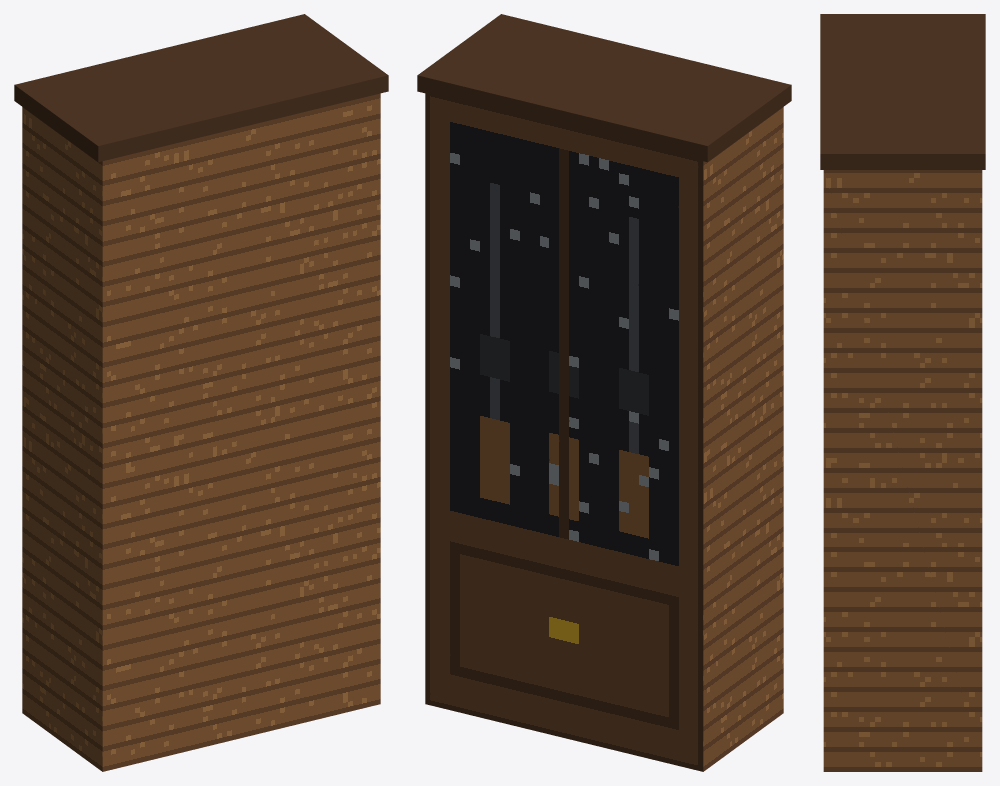
The model's file is gun_cabinet.glb.
3 views of the same model, side by side, from view 1: azimuth 30°, elevation 25°; view 2: azimuth 150°, elevation 25°; view 3: azimuth 270°, elevation 25° (orthographic).
Parts seen in each view (by area): view 1: gun_cabinet; view 2: gun_cabinet; view 3: gun_cabinet.
Boxes of the visible parts, x1,y1,x2,y2 form: gun_cabinet: (14, 14, 388, 771); gun_cabinet: (417, 14, 791, 771); gun_cabinet: (820, 14, 985, 771).
Bounding box in the file's own units: 0.94 × 1.95 × 0.47.
Materials: 3 (3 with a texture image).
